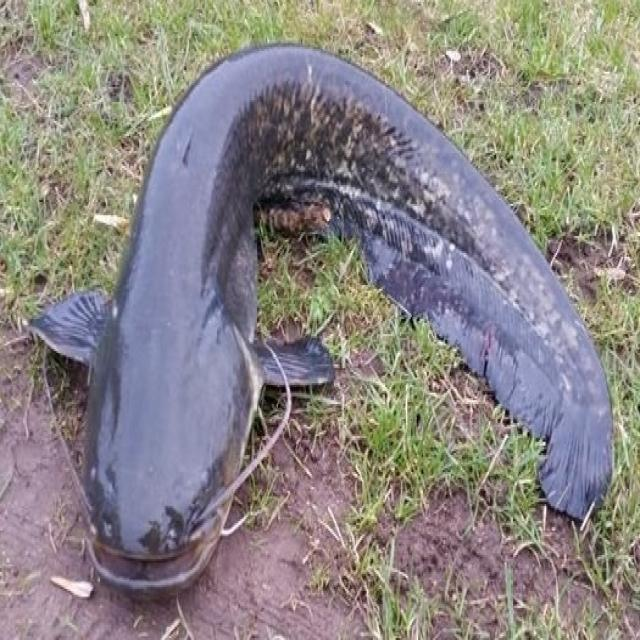Catfish: (22, 32, 626, 612)
